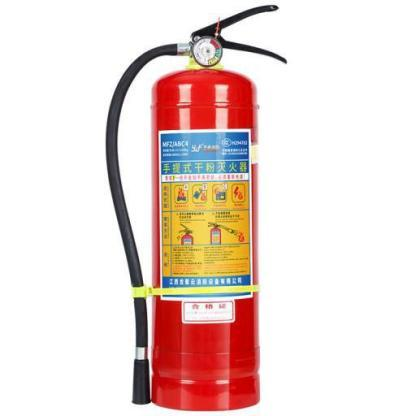Fire Extinguisher: (82, 2, 310, 414)
